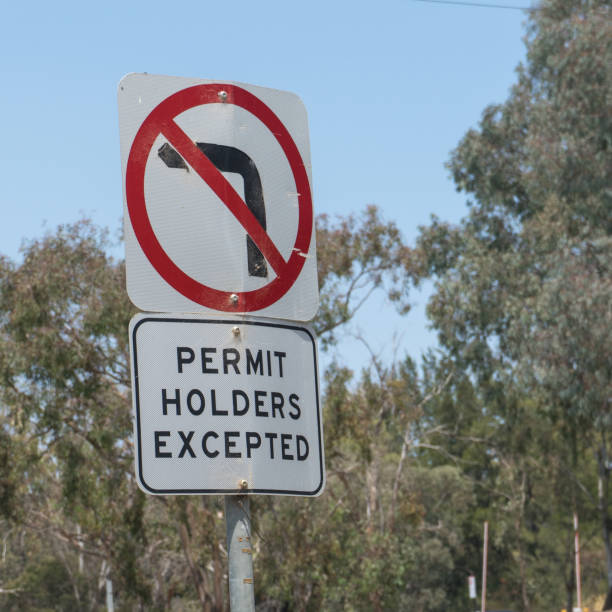sola_girilmez: (122, 84, 315, 306)
